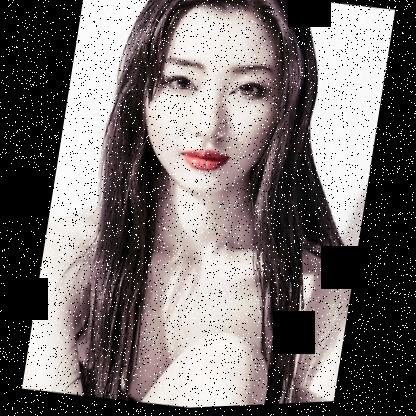Female: (128, 0, 300, 207)
